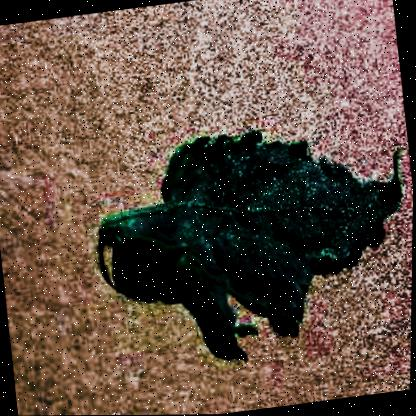Virus: (85, 102, 414, 380)
